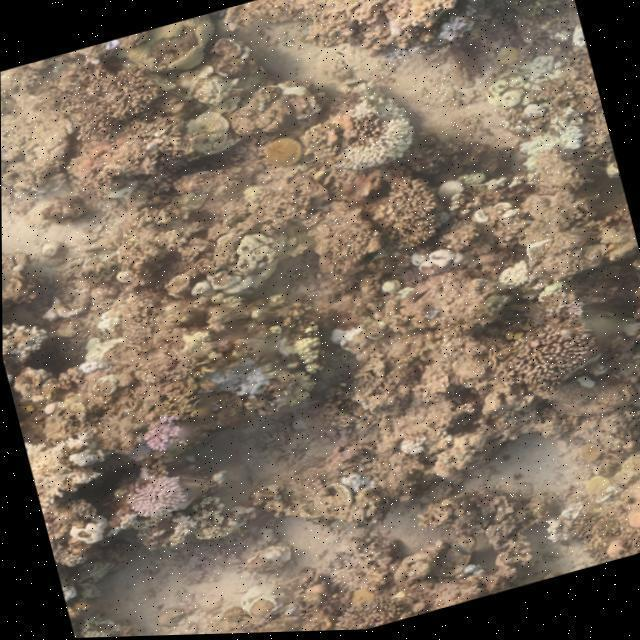Bleached Coral: (328, 112, 432, 182), (515, 103, 589, 168), (198, 347, 271, 407), (420, 6, 493, 52), (439, 0, 499, 7)
Healthy Coral: (118, 462, 198, 528)
